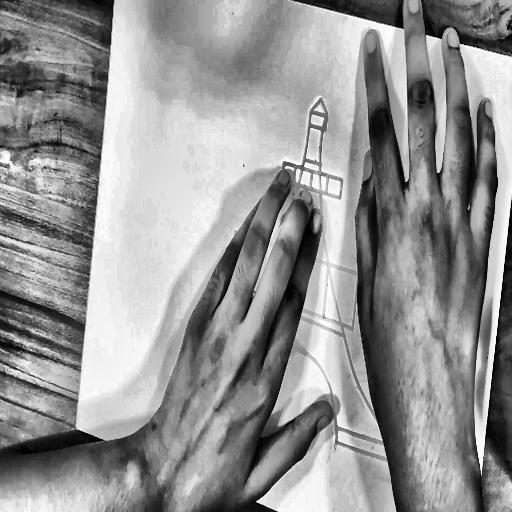bottom_left: (73, 423, 79, 433)
eiffel-tower: (168, 49, 444, 473)
